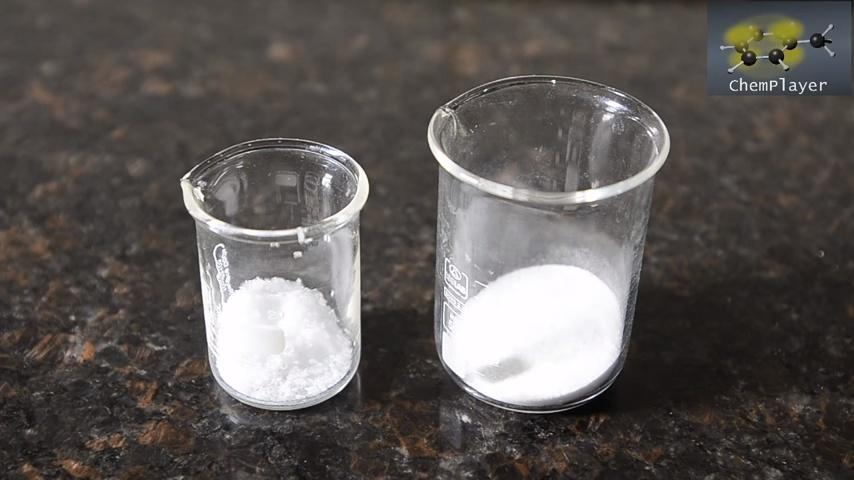Beaker: (422, 56, 689, 416), (181, 126, 384, 430)
